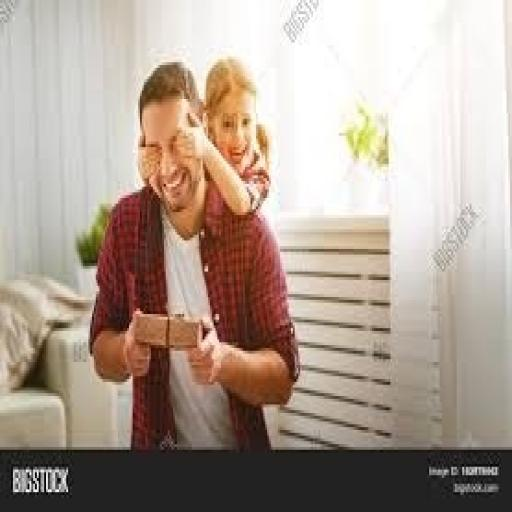hugging: (87, 56, 302, 452)
